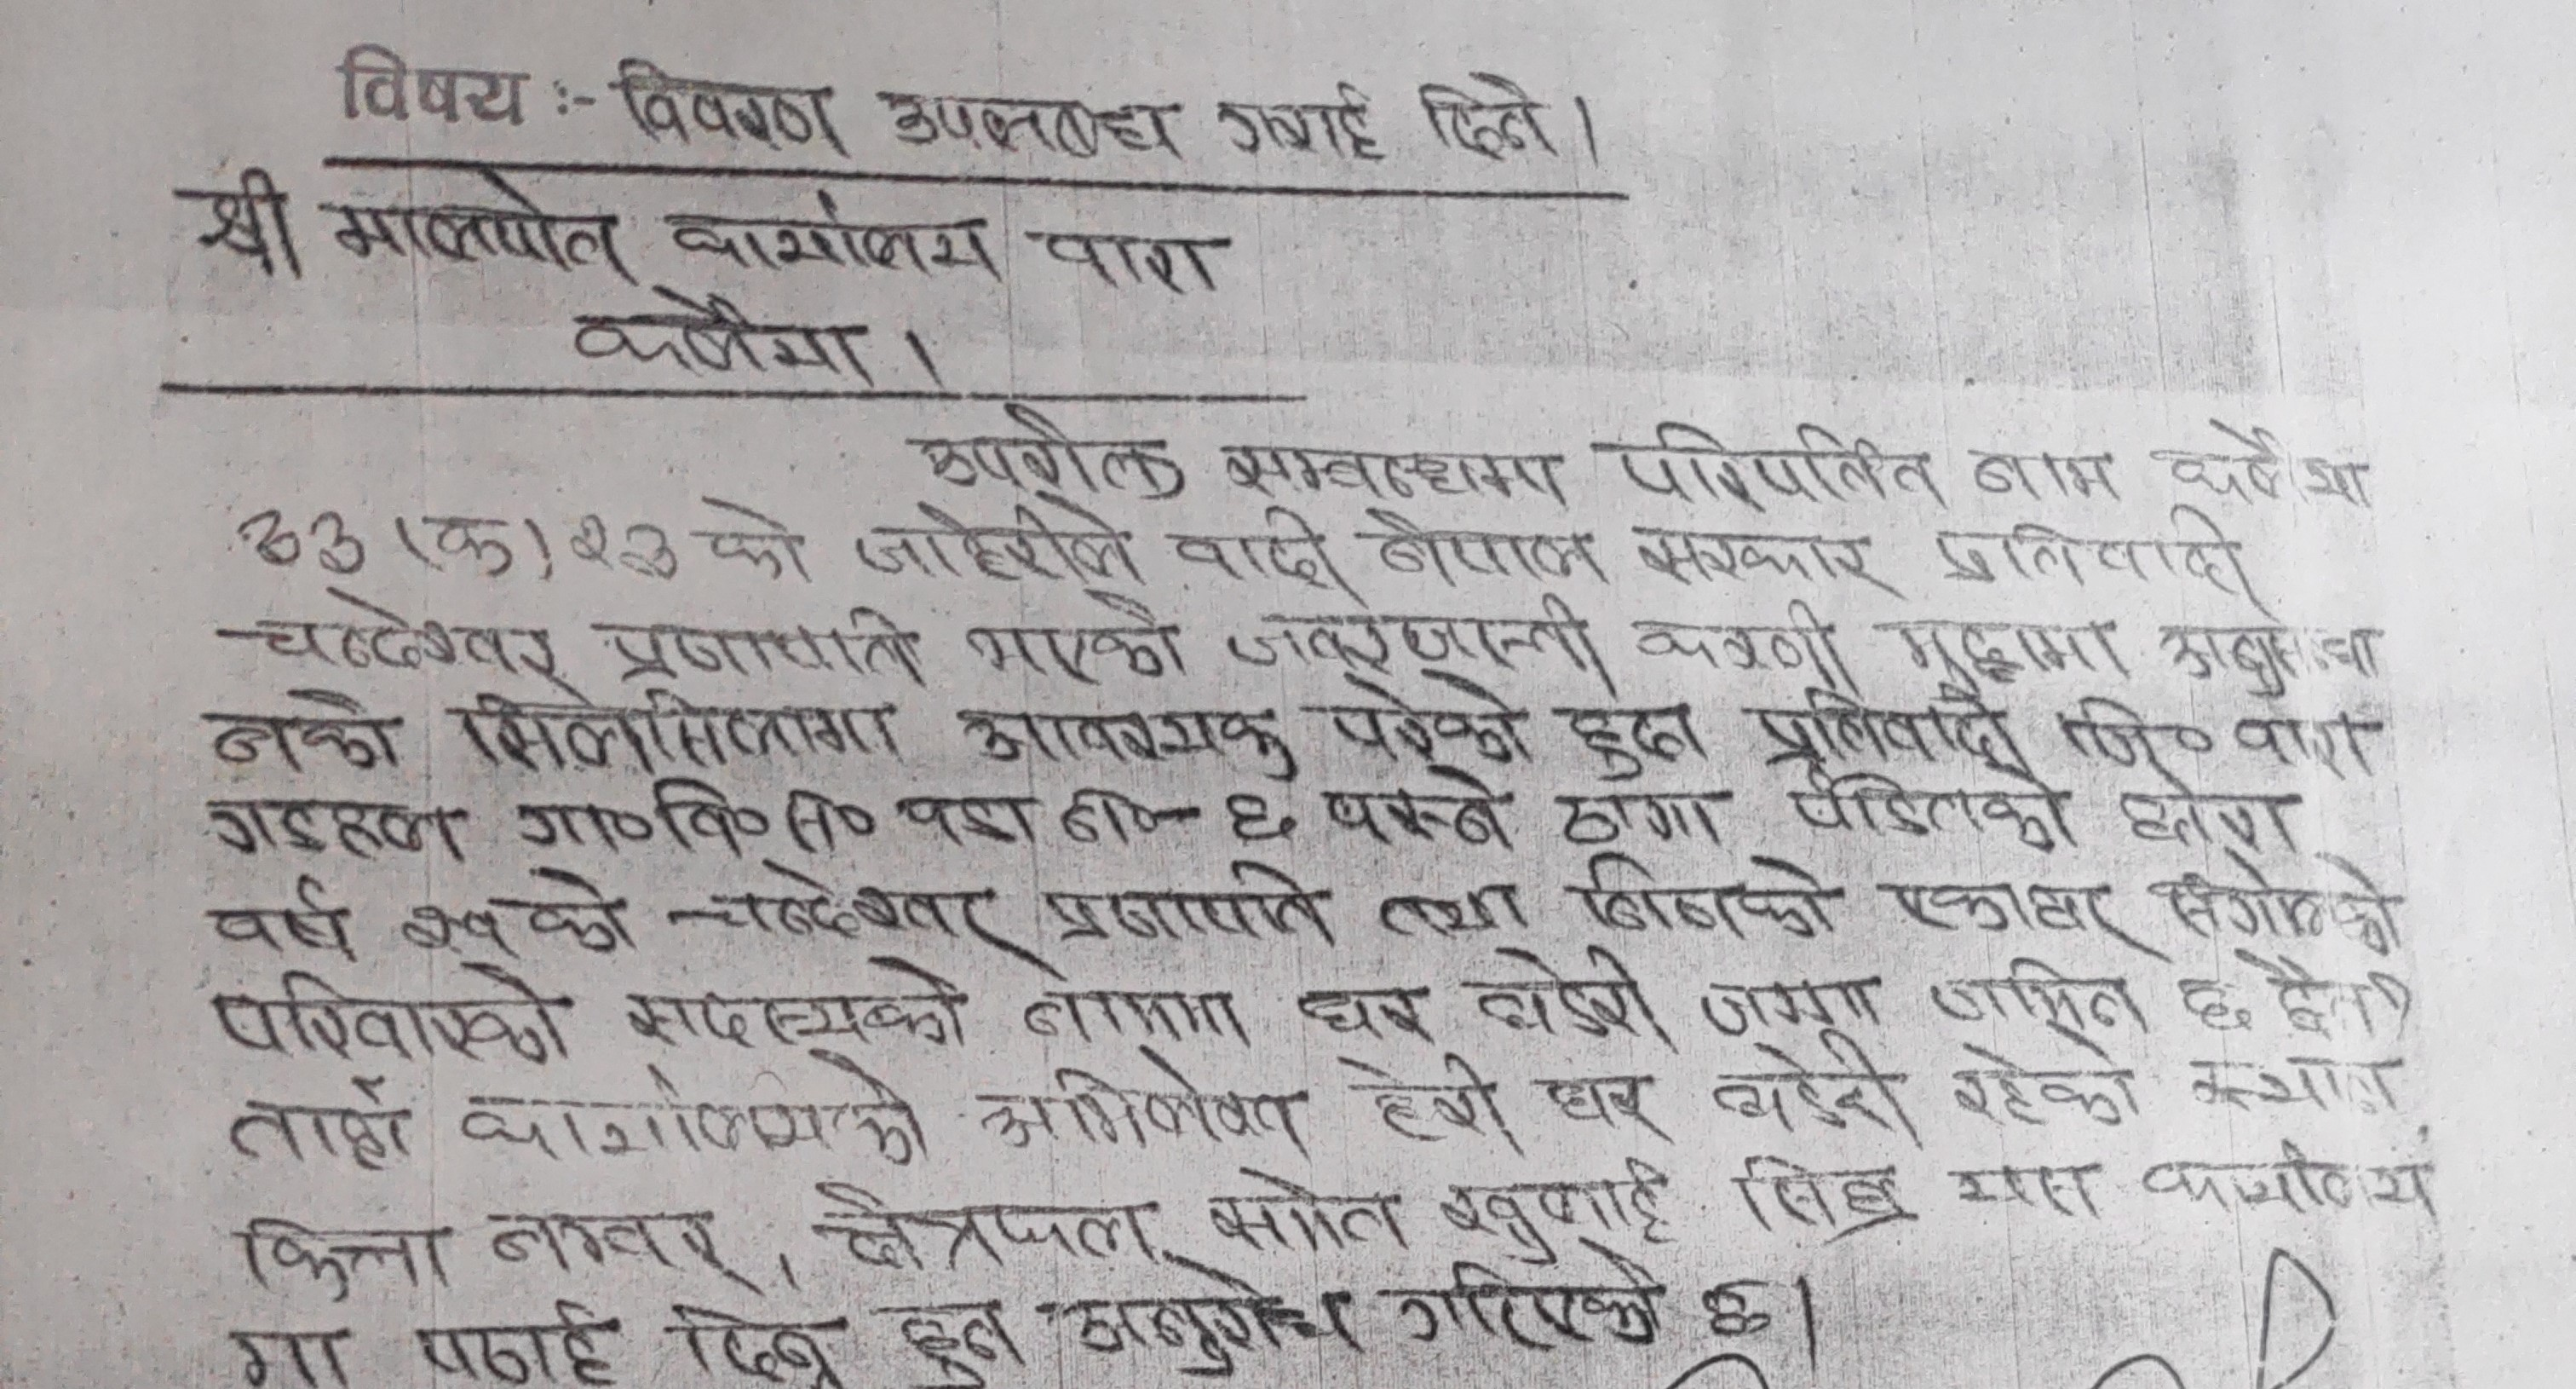text: (453, 1054, 940, 1175), (441, 688, 909, 777), (202, 960, 566, 1069), (212, 582, 579, 689), (1038, 1268, 1369, 1386), (973, 1042, 1303, 1160), (614, 949, 964, 1054), (315, 176, 626, 289), (655, 860, 1022, 955), (802, 1180, 1169, 1274), (1595, 416, 1954, 511), (583, 600, 932, 695), (660, 186, 998, 282), (568, 284, 877, 388), (1921, 501, 2258, 597), (1378, 1247, 1670, 1355), (515, 773, 873, 860), (1781, 761, 2085, 860), (1219, 590, 1602, 669), (913, 400, 1195, 505), (956, 703, 1306, 787), (844, 496, 1145, 590), (1038, 855, 1338, 949), (870, 82, 1188, 171), (1438, 1148, 1677, 1266), (605, 56, 846, 171), (2152, 847, 2403, 956), (475, 1199, 750, 1295), (1567, 848, 1846, 941), (1740, 688, 2041, 773), (1215, 436, 1564, 510), (2132, 1134, 2431, 1216), (962, 590, 1190, 696), (1012, 953, 1251, 1047), (1461, 941, 1668, 1049), (1615, 515, 1892, 594), (1701, 1035, 1913, 1138), (1629, 594, 1846, 693), (1359, 501, 1605, 588), (1202, 1158, 1409, 1261), (1875, 614, 2138, 695), (2154, 416, 2373, 511), (232, 1209, 451, 1305), (202, 688, 412, 787), (207, 789, 472, 867), (1323, 1047, 1514, 1153), (407, 1295, 622, 1389), (1316, 672, 1535, 763), (1945, 1033, 2149, 1131), (1921, 949, 2159, 1030), (2154, 616, 2386, 698), (1723, 1144, 1914, 1240), (1875, 872, 2128, 944), (226, 1073, 412, 1170), (1323, 761, 1514, 855), (651, 1298, 848, 1389), (1166, 505, 1342, 604), (169, 164, 315, 284), (1212, 79, 1397, 168), (1691, 961, 1889, 1040), (2191, 1045, 2414, 1115), (1029, 224, 1244, 296), (1412, 65, 1562, 163), (202, 872, 361, 961), (2114, 783, 2306, 855), (872, 1300, 1022, 1389), (1559, 695, 1703, 782), (1556, 780, 1728, 852), (685, 494, 812, 590), (891, 783, 1044, 859), (226, 505, 373, 583), (520, 866, 638, 963), (2046, 689, 2181, 773), (1945, 1155, 2099, 1228), (1371, 881, 1540, 948), (1962, 440, 2126, 508), (2226, 710, 2378, 783), (562, 508, 687, 590), (1526, 1069, 1668, 1141), (2263, 953, 2381, 1038), (1284, 980, 1438, 1045), (212, 1324, 361, 1389), (426, 503, 521, 580), (395, 898, 508, 961), (2164, 968, 2256, 1042), (1696, 1278, 1785, 1351), (1046, 780, 1133, 848), (1219, 787, 1299, 847)
